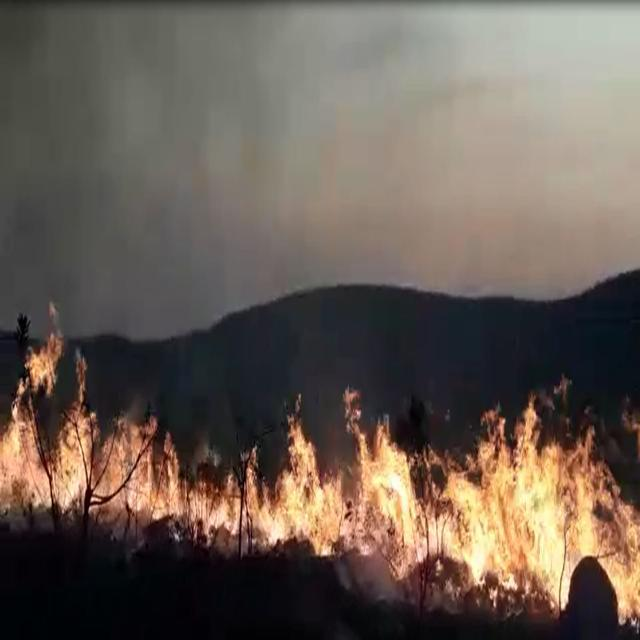Fire: (340, 383, 640, 620), (0, 297, 184, 533), (185, 392, 340, 556)
Smoke: (0, 0, 278, 342), (278, 0, 506, 296), (337, 556, 402, 606)
